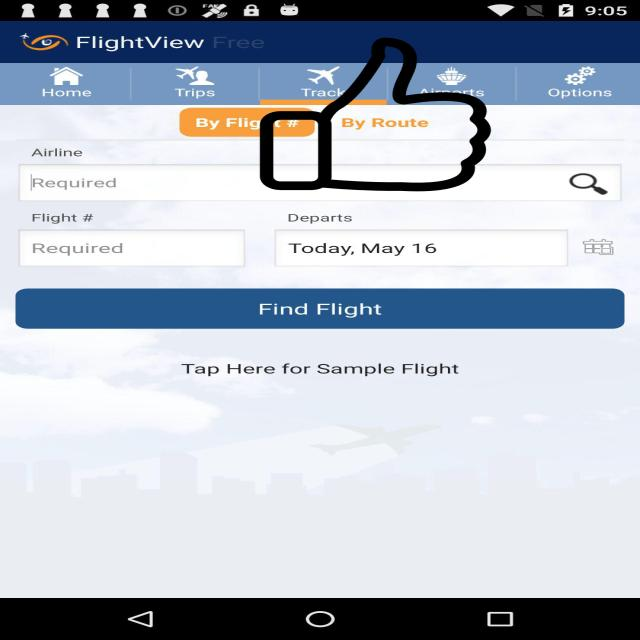privacy zuckering: (257, 38, 494, 191)
